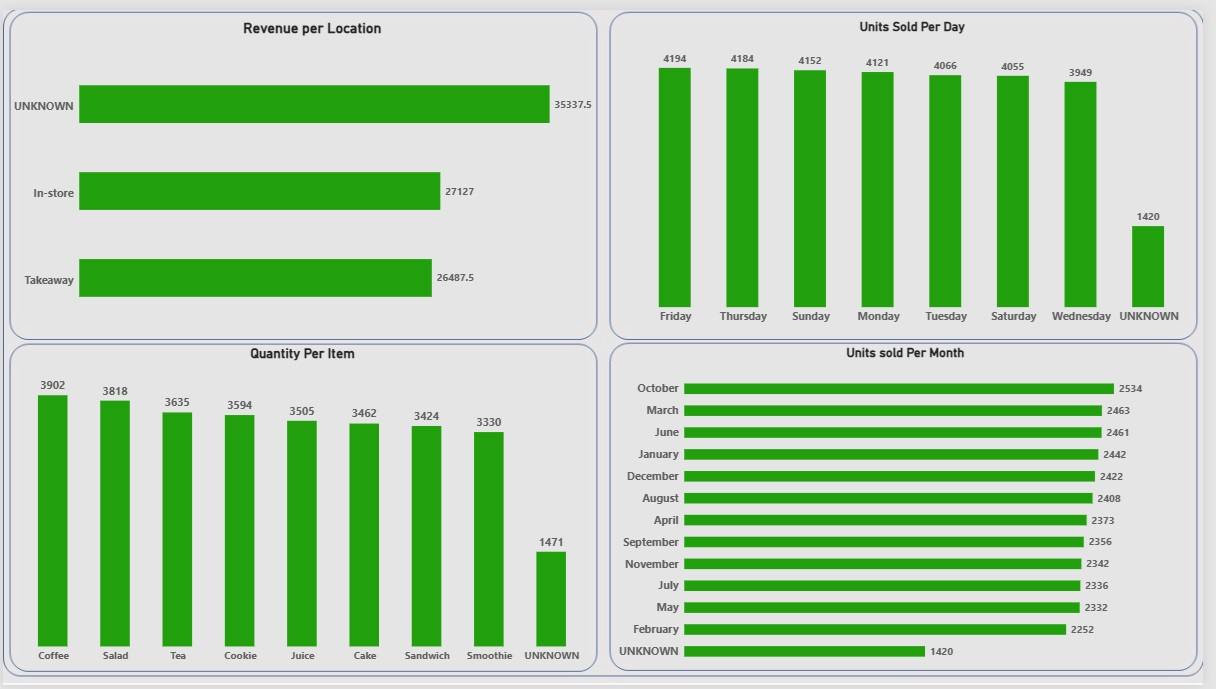

The page's visual inventory and layout, read from the dashboard file:
{"tool":"powerbi","page":{"name":"Page 2","canvas":[1920,1080],"ordinal":1},"visuals":[{"type":"clusteredBarChart","title":"Revenue per Location","fields":{"Category":["Sheet1.Location"],"Y":["Sum(Sheet1.Total Spent)"]},"box":[0,0,989.9,539.3],"z":0},{"type":"columnChart","title":"Quantity Per Item","fields":{"Category":["Sheet1.Item"],"Y":["Sum(Sheet1.Quantity)"]},"box":[0,523,959.1,542.9],"z":1},{"type":"barChart","title":"Units sold Per Month","fields":{"Category":["Sheet1.Month"],"Y":["Sum(Sheet1.Quantity)"]},"box":[968.2,523,951.9,542.9],"z":2},{"type":"columnChart","title":"Units Sold Per Day","fields":{"Category":["Sheet1.Day of Week"],"Y":["Sum(Sheet1.Quantity)"]},"box":[990,0,930,523],"z":3}]}

Visuals, with their boxes in screenshot pixels (x1, y1, x2, y2), scaled from the page's 1920x1080 canvas onto the 1216x689 screenshot:
"Revenue per Location" clusteredBarChart: (left=0, top=0, right=627, bottom=344)
"Quantity Per Item" columnChart: (left=0, top=334, right=607, bottom=680)
"Units sold Per Month" barChart: (left=613, top=334, right=1215, bottom=680)
"Units Sold Per Day" columnChart: (left=627, top=0, right=1215, bottom=334)
